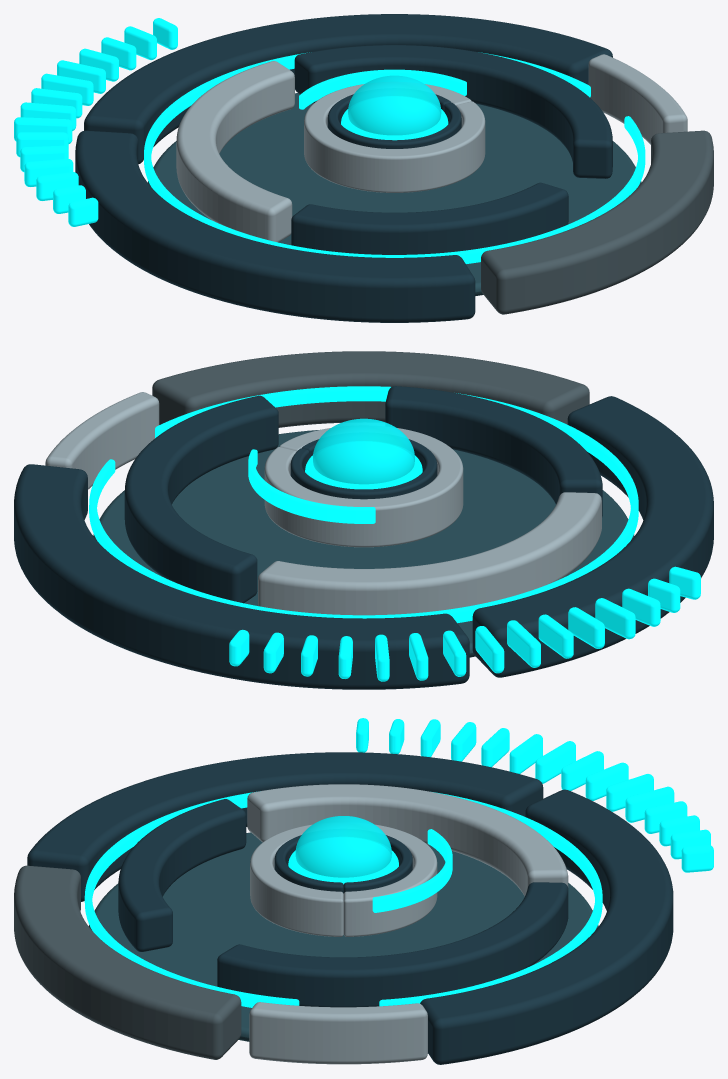
The model's file is loupe-hero.glb.
3 renders of one model, top to bottom at view 1: azimuth 30°, elevation 25°; view 2: azimuth 150°, elevation 25°; view 3: azimuth 270°, elevation 25°, orthographic. The views are drawn at different scales.
Visible parts, largest first — view 1: Outer_Chassis_Left, Outer_Chassis_Upper, Optical_Bed, Outer_Chassis_Lower, Aperture_Upper, Aperture_Left, Aperture_Lower, Lens_Bezel, Optical_Seam, Outer_Steel_Inlay, Optical_Core, Core_Illuminator (+17 smaller); view 2: Outer_Chassis_Upper, Outer_Chassis_Left, Optical_Bed, Outer_Chassis_Lower, Aperture_Left, Aperture_Upper, Aperture_Lower, Lens_Bezel, Optical_Seam, Outer_Steel_Inlay, Optical_Core, Core_Illuminator (+17 smaller); view 3: Outer_Chassis_Upper, Optical_Bed, Outer_Chassis_Left, Outer_Chassis_Lower, Aperture_Upper, Aperture_Left, Outer_Steel_Inlay, Lens_Bezel, Aperture_Lower, Optical_Seam, Optical_Core, Core_Illuminator (+15 smaller).
Boxes of the visible parts, <box> form: Outer_Chassis_Left: <box>75,130,475,322</box>; Outer_Chassis_Upper: <box>84,14,612,164</box>; Optical_Bed: <box>148,93,641,295</box>; Outer_Chassis_Lower: <box>481,130,713,314</box>; Aperture_Upper: <box>294,45,612,178</box>; Aperture_Left: <box>176,61,294,242</box>; Aperture_Lower: <box>291,182,568,254</box>; Lens_Bezel: <box>304,84,485,192</box>; Optical_Seam: <box>144,52,645,263</box>; Outer_Steel_Inlay: <box>588,54,687,144</box>; Optical_Core: <box>348,75,441,135</box>; Core_Illuminator: <box>341,96,448,140</box>; Outer_Chassis_Upper: <box>14,464,469,689</box>; Outer_Chassis_Left: <box>472,396,713,677</box>; Optical_Bed: <box>93,430,634,657</box>; Outer_Chassis_Lower: <box>152,351,589,427</box>; Aperture_Left: <box>258,492,601,615</box>; Aperture_Upper: <box>124,395,278,603</box>; Aperture_Lower: <box>385,386,602,516</box>; Lens_Bezel: <box>264,428,463,547</box>; Optical_Seam: <box>89,386,638,623</box>; Outer_Steel_Inlay: <box>45,392,159,489</box>; Optical_Core: <box>313,418,414,484</box>; Core_Illuminator: <box>305,441,422,489</box>; Outer_Chassis_Upper: <box>420,789,673,1064</box>; Optical_Bed: <box>89,832,598,1041</box>; Outer_Chassis_Left: <box>27,752,543,901</box>; Outer_Chassis_Lower: <box>14,865,241,1059</box>; Aperture_Upper: <box>217,882,568,1007</box>; Aperture_Left: <box>247,784,568,896</box>; Outer_Steel_Inlay: <box>249,1002,427,1064</box>; Lens_Bezel: <box>250,824,437,936</box>; Aperture_Lower: <box>118,799,246,951</box>; Optical_Seam: <box>84,791,602,1007</box>; Optical_Core: <box>295,816,391,877</box>; Core_Illuminator: <box>288,837,398,884</box>.
Size of the model in its own units: 7.61 by 1.48 by 7.71.
